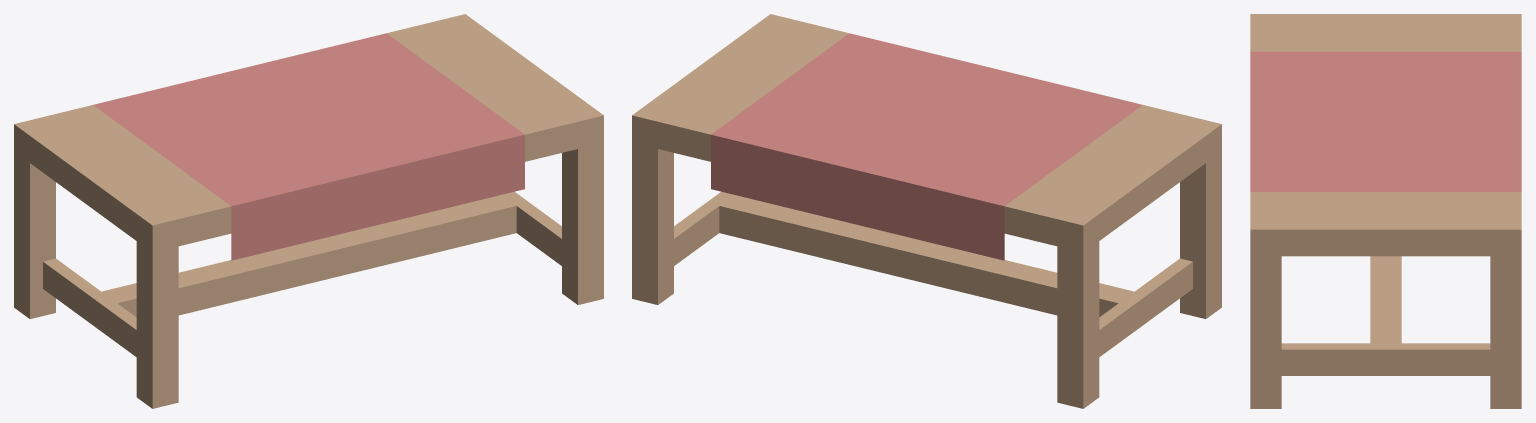
File: tableCloth.glb
3 views of the same model, side by side, from view 1: azimuth 30°, elevation 25°; view 2: azimuth 150°, elevation 25°; view 3: azimuth 270°, elevation 25° (orthographic). The views are drawn at different scales.
Parts seen in each view (by area): view 1: tableCloth; view 2: tableCloth; view 3: tableCloth.
Part boxes in pixels (<box>): tableCloth: <box>14,14,603,408</box>; tableCloth: <box>632,14,1221,408</box>; tableCloth: <box>1250,14,1521,408</box>.
Size of the model in its own units: 0.8415 by 0.3267 by 0.4474.
